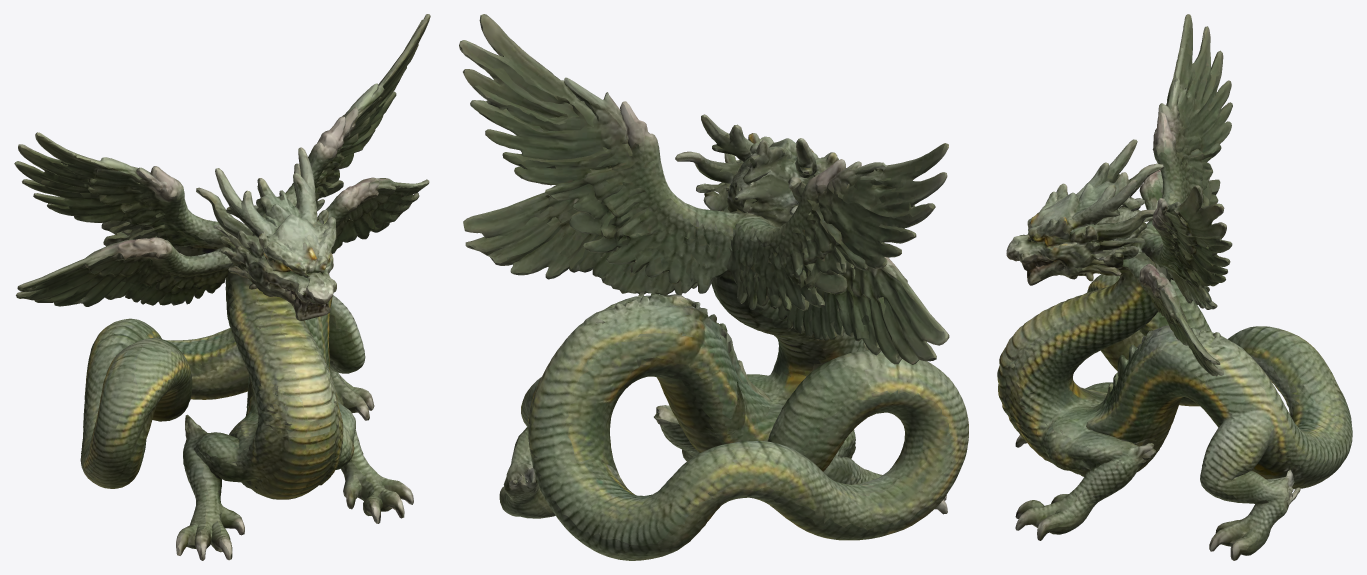
The model's file is suanyu.glb.
3 views of the same model, side by side, from view 1: azimuth 30°, elevation 25°; view 2: azimuth 150°, elevation 25°; view 3: azimuth 270°, elevation 25° (orthographic). The views are drawn at different scales.
Parts seen in each view (by area): view 1: geometry_0; view 2: geometry_0; view 3: geometry_0.
Boxes of the visible parts, box(x1,y1,x2,y2) form: geometry_0: box(14, 14, 430, 560); geometry_0: box(459, 14, 968, 560); geometry_0: box(997, 14, 1352, 560).
Bounding box in the file's own units: 0.35 × 0.3303 × 0.2647.
Materials: 1 (1 with a texture image).
